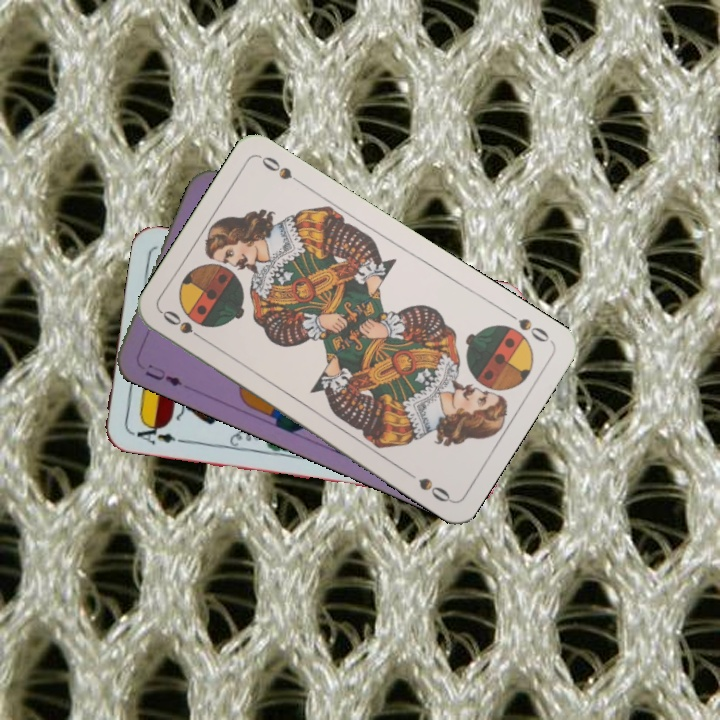EA: (126, 418, 185, 448)
EU: (141, 360, 185, 390)
SO: (158, 306, 211, 345), (502, 307, 555, 345)
